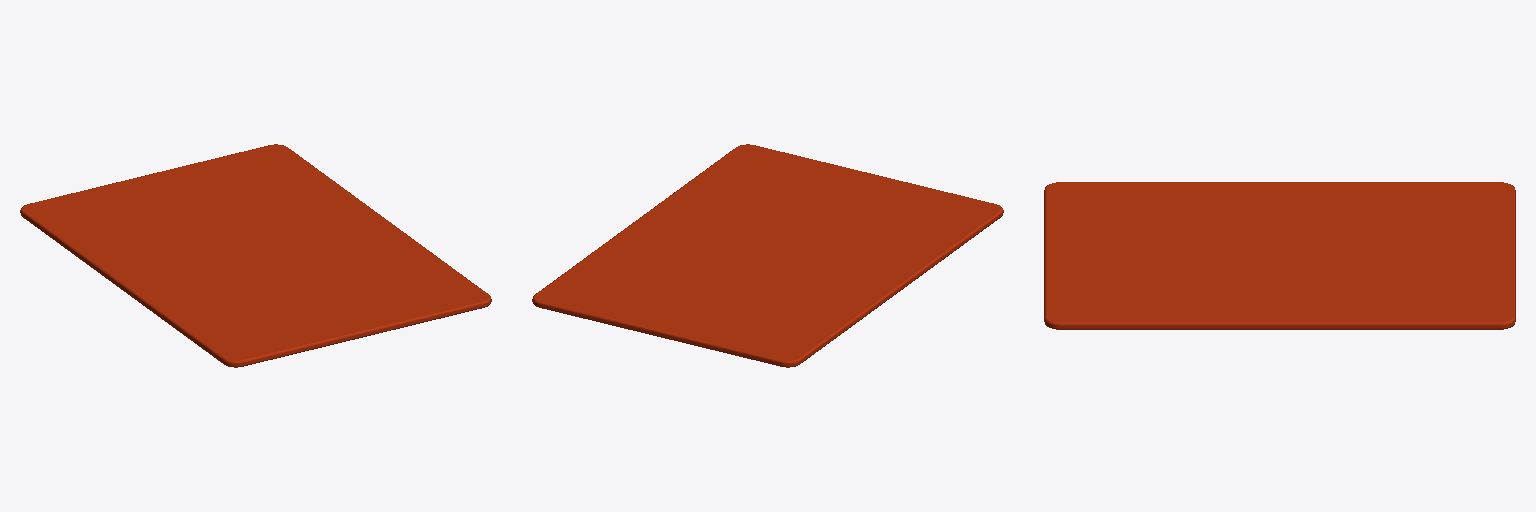
robot.urdf — card:
<?xml version="1.0" ?>
<!-- Generated using onshape-to-robot -->
<!-- Onshape https://cad.onshape.com/documents/b3d87d1f3e85c40108b3d274/w/265b41b8df75b9c1c43bc443/e/d329b40f7c5533ef49cb783f -->
<robot name="card">
  <!-- Link card -->
  <link name="card">
    <inertial>
      <origin xyz="6.93889e-18 0 0.00075" rpy="0 0 0"/>
      <mass value="0.0116383"/>
      <inertia ixx="7.64079e-06" ixy="0" ixz="0" iyy="3.88588e-06" iyz="0" izz="1.15223e-05"/>
    </inertial>
    <!-- Part card -->
    <visual>
      <origin xyz="-0.03175 -0.0445 0" rpy="-1.5708 -0 0"/>
      <geometry>
        <mesh filename="package://assets/card.stl"/>
      </geometry>
      <material name="card_material">
        <color rgba="0.729412 0.25098 0.105882 1.0"/>
      </material>
    </visual>
    <collision>
      <origin xyz="-0.03175 -0.0445 0" rpy="-1.5708 -0 0"/>
      <geometry>
        <mesh filename="package://assets/card.stl"/>
      </geometry>
    </collision>
  </link>
</robot>

--- Facts derived from the render (not from the file) ---
The picture shows the robot from 3 angles, left to right: view 1: azimuth 30°, elevation 25°; view 2: azimuth 150°, elevation 25°; view 3: azimuth 270°, elevation 25°; orthographic projection.
Model card with 1 links and 0 joints (none), rooted at card, posed all joints at 0.
Links seen in each view (by area): view 1: card; view 2: card; view 3: card.
Link boxes in pixels (x1=…): card: x1=20, y1=144, x2=491, y2=367; card: x1=532, y1=144, x2=1003, y2=367; card: x1=1044, y1=182, x2=1515, y2=329.
Bounding box of the posed robot: 0.0635 × 0.089 × 0.0015 m (x, y, z).
1 mesh visuals loaded from 1 distinct referenced files (1 binary STL).
